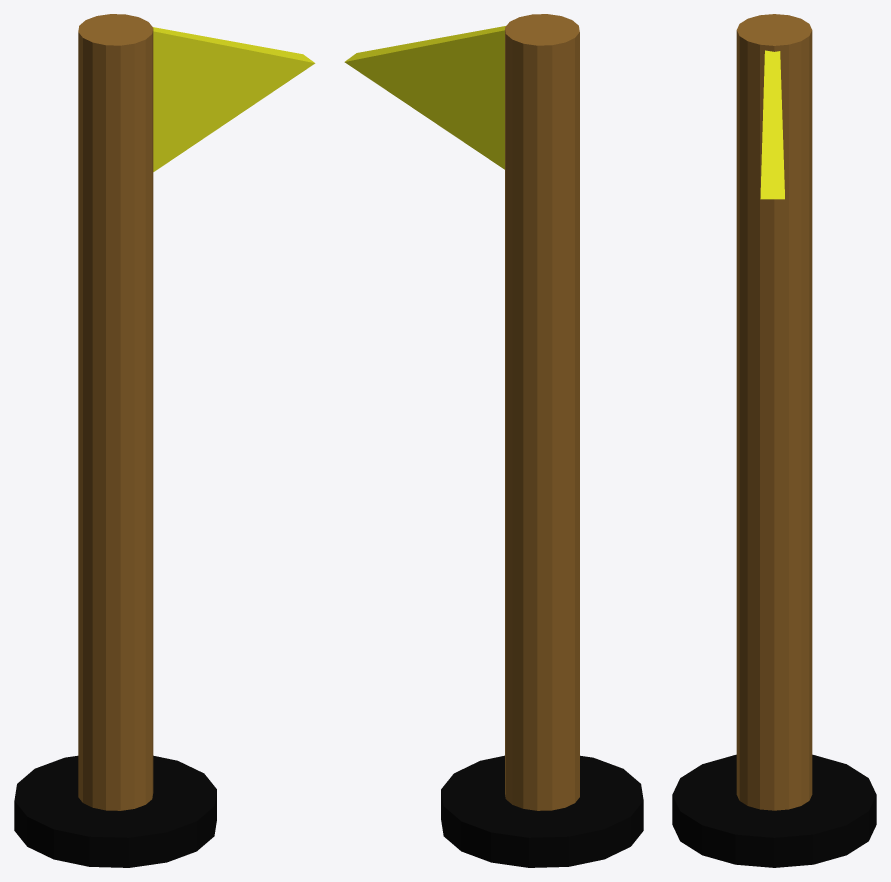
The model's file is checkpointflag.fbx.
The picture shows the model from 3 angles, left to right: view 1: azimuth 30°, elevation 25°; view 2: azimuth 150°, elevation 25°; view 3: azimuth 270°, elevation 25°; orthographic projection.
Visible parts, largest first — view 1: Pole, Base, Flag; view 2: Pole, Base, Flag; view 3: Pole, Base, Flag.
Part boxes in pixels (x1,y1,x2,y2): Pole: (78,14,153,810); Base: (14,755,216,867); Flag: (153,27,315,171); Pole: (505,14,579,810); Base: (441,755,643,867); Flag: (344,26,505,169); Pole: (736,14,812,810); Base: (672,754,876,867); Flag: (760,50,784,199).
Bounding box in the file's own units: 137 × 371 × 86.47.
